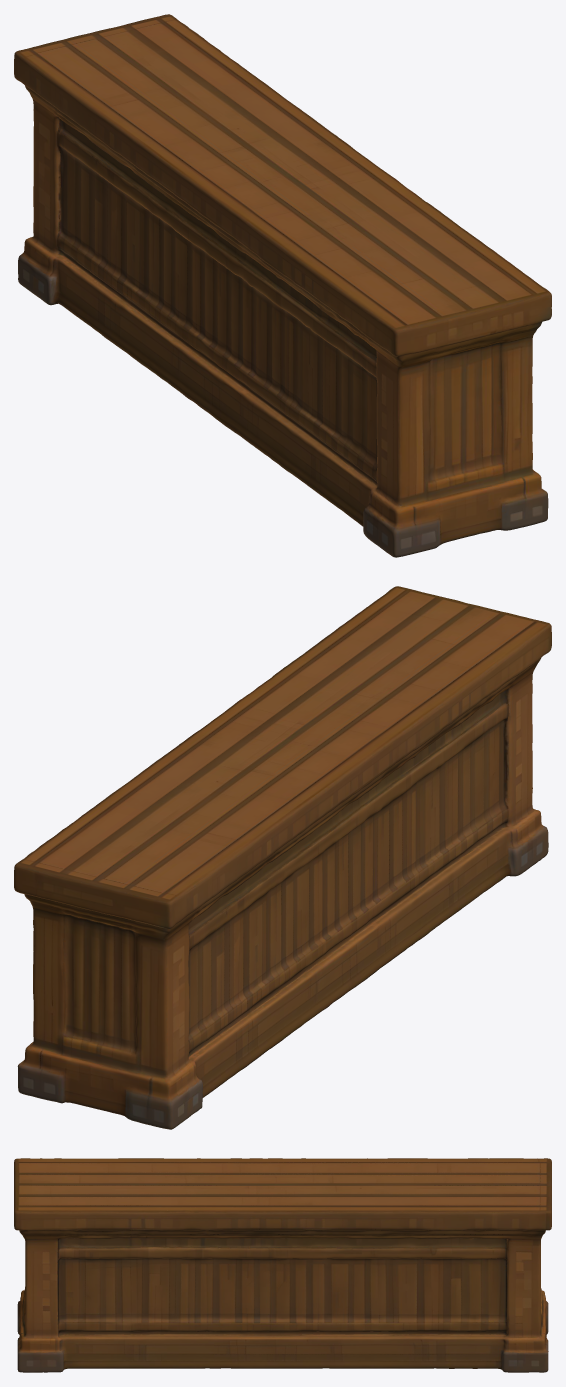
File: tripo_convert_55856d0e-a4cb-4c40-94ec-3d879b3430e4.fbx
3 views of the same model, one above another, from view 1: azimuth 30°, elevation 25°; view 2: azimuth 150°, elevation 25°; view 3: azimuth 270°, elevation 25° (orthographic). The views are drawn at different scales.
Parts seen in each view (by area): view 1: tripo_node_55856d0e; view 2: tripo_node_55856d0e; view 3: tripo_node_55856d0e.
Boxes of the visible parts, x1=… form: tripo_node_55856d0e: x1=14, y1=14, x2=551, y2=557; tripo_node_55856d0e: x1=14, y1=586, x2=551, y2=1129; tripo_node_55856d0e: x1=14, y1=1158, x2=551, y2=1372.
Size of the model in its own units: 0.2373 by 0.3322 by 0.9999.
